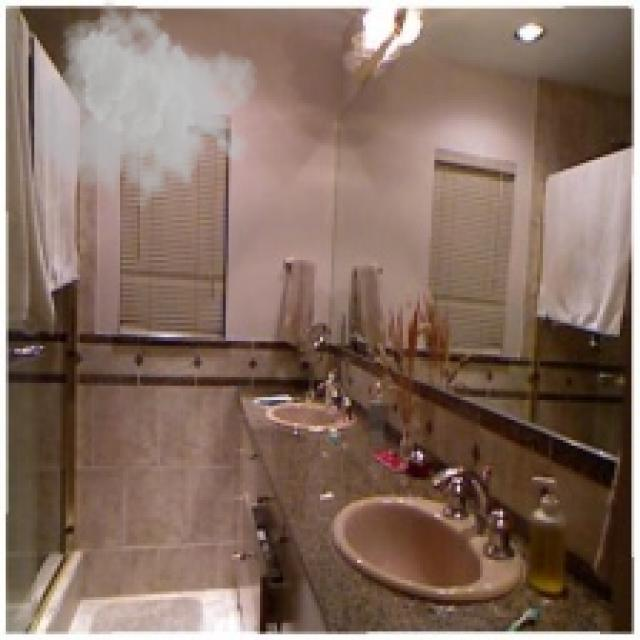Smoke: (31, 0, 260, 223)
